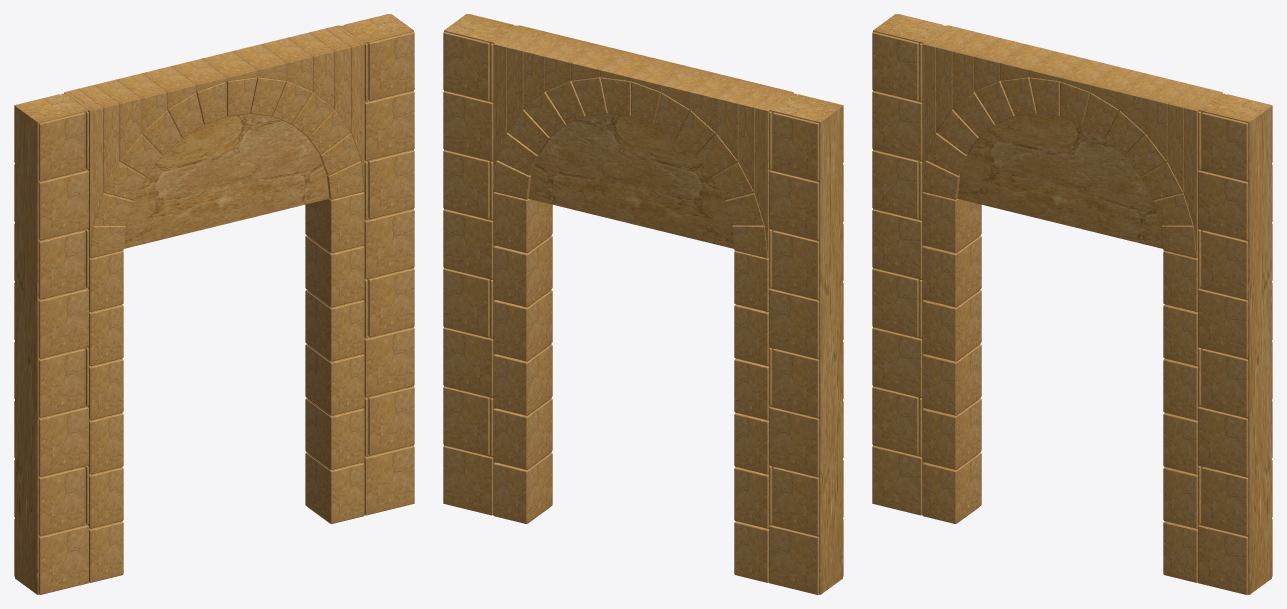
The model's file is SM_MoleControlV2_ArchedDoorway200.fbx.
3 renders of one model, left to right at view 1: azimuth 30°, elevation 25°; view 2: azimuth 150°, elevation 25°; view 3: azimuth 330°, elevation 25°, orthographic.
Visible parts, largest first — view 1: SM_MoleControlV2_ArchedDoorway200; view 2: SM_MoleControlV2_ArchedDoorway200; view 3: SM_MoleControlV2_ArchedDoorway200.
Part boxes in pixels (x1,y1,x2,y2): SM_MoleControlV2_ArchedDoorway200: [14, 14, 414, 594]; SM_MoleControlV2_ArchedDoorway200: [443, 14, 843, 594]; SM_MoleControlV2_ArchedDoorway200: [872, 14, 1272, 594].
Size of what is drawn, in the model's own units: 200 by 24 by 240.
